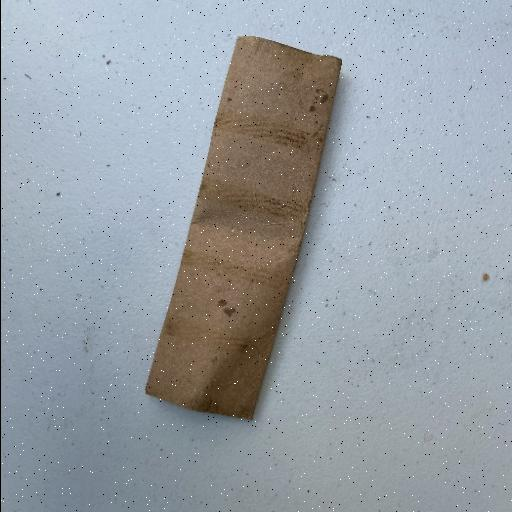Cardboard: (142, 34, 344, 422)
